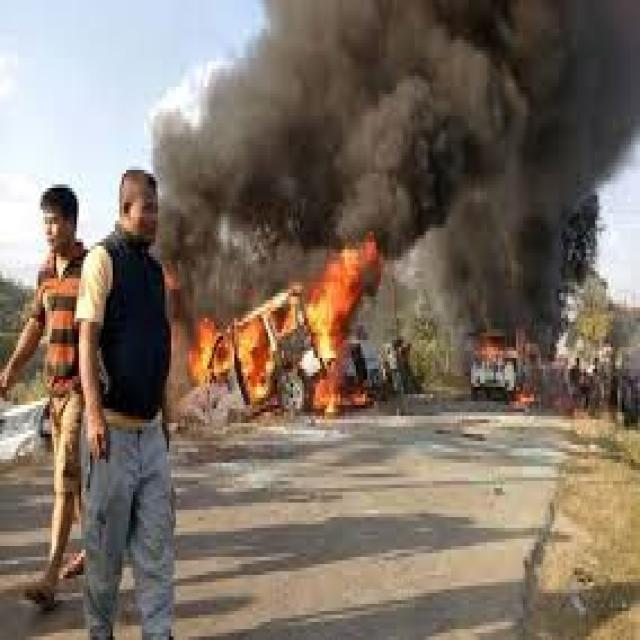fire: (305, 235, 383, 418), (185, 315, 234, 385), (236, 315, 273, 400)
